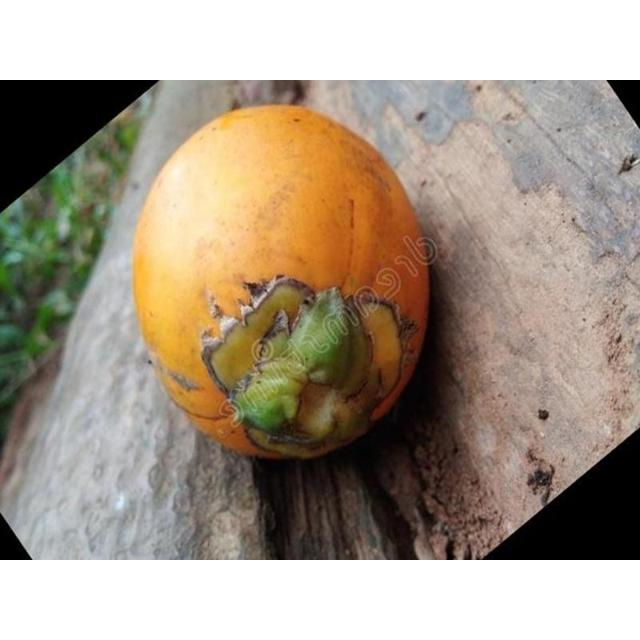good: (132, 106, 429, 462)
